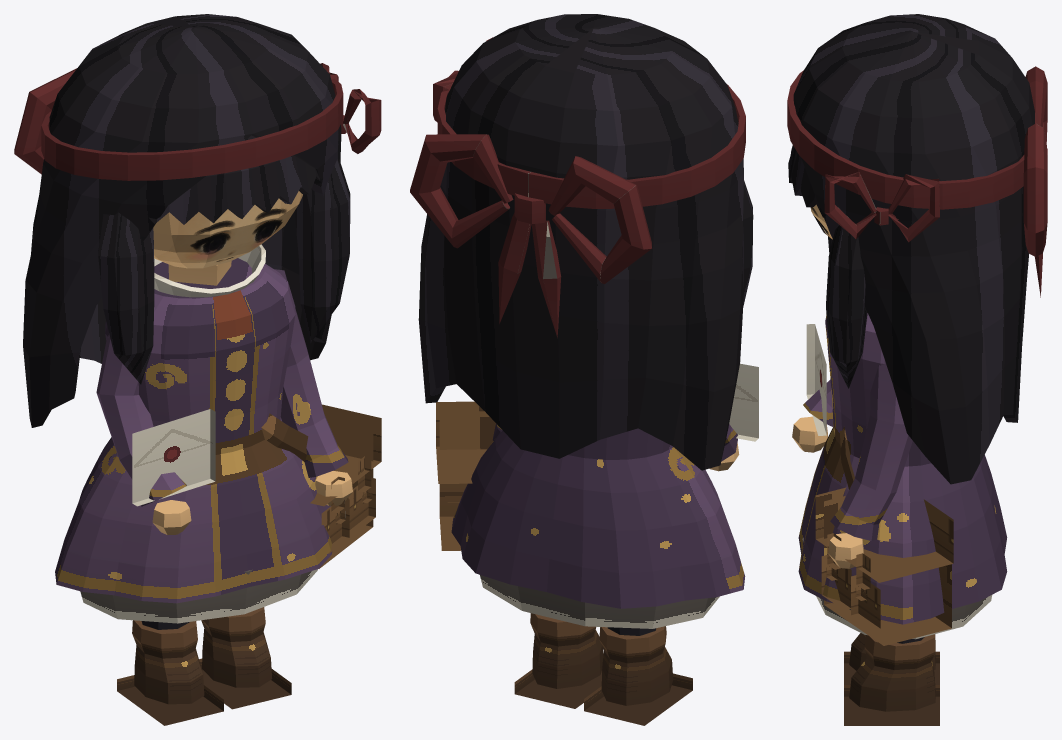
The model's file is postmaster-v08.glb.
3 renders of one model, left to right at view 1: azimuth 30°, elevation 25°; view 2: azimuth 150°, elevation 25°; view 3: azimuth 270°, elevation 25°, orthographic. The views are drawn at different scales.
Parts seen in each view (by area): view 1: postmaster; view 2: postmaster; view 3: postmaster.
Boxes of the visible parts, x1=… form: postmaster: x1=14, y1=14, x2=381, y2=725; postmaster: x1=410, y1=14, x2=758, y2=725; postmaster: x1=787, y1=14, x2=1047, y2=725.
Bounding box in the file's own units: 1.31 × 2.56 × 0.9108.
2 materials, 2 textured.
